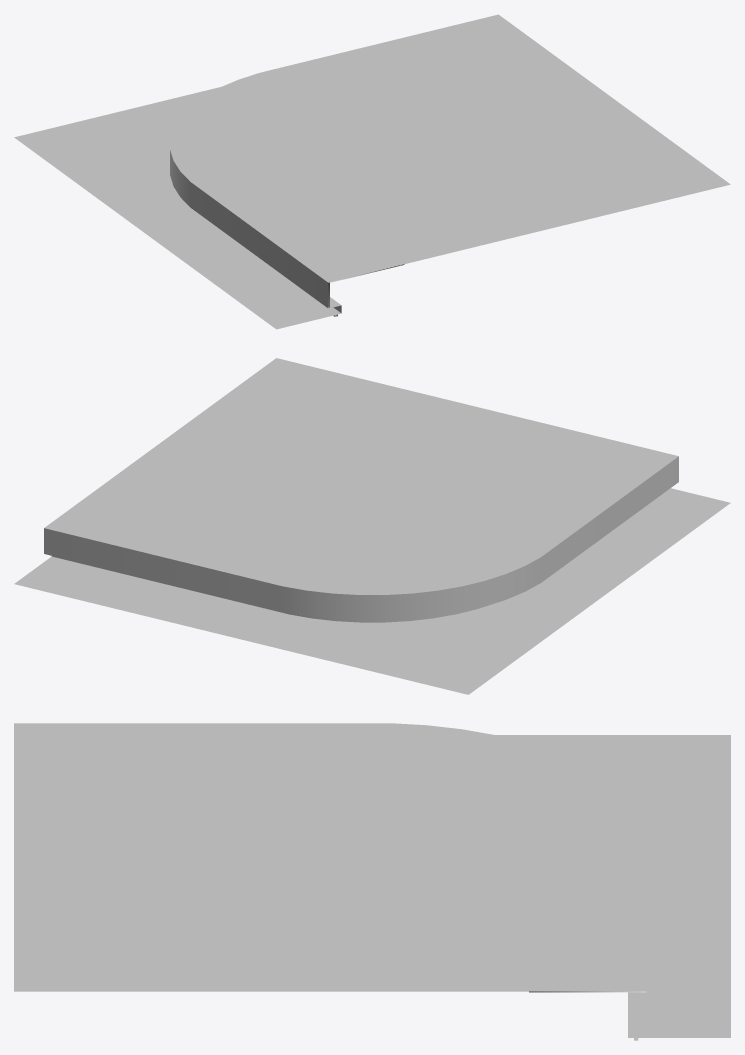
The model's file is Ceiling02_3_350x350cm.FBX.
3 renders of one model, top to bottom at view 1: azimuth 30°, elevation 25°; view 2: azimuth 150°, elevation 25°; view 3: azimuth 270°, elevation 25°, orthographic. The views are drawn at different scales.
Parts seen in each view (by area): view 1: Ceiling; view 2: Ceiling; view 3: Ceiling.
Boxes of the visible parts, box(x1,y1,x2,y2) form: Ceiling: box(14, 14, 730, 329); Ceiling: box(14, 358, 730, 694); Ceiling: box(14, 723, 730, 1037).
Size of the model in its own units: 350 by 26.5 by 350.
